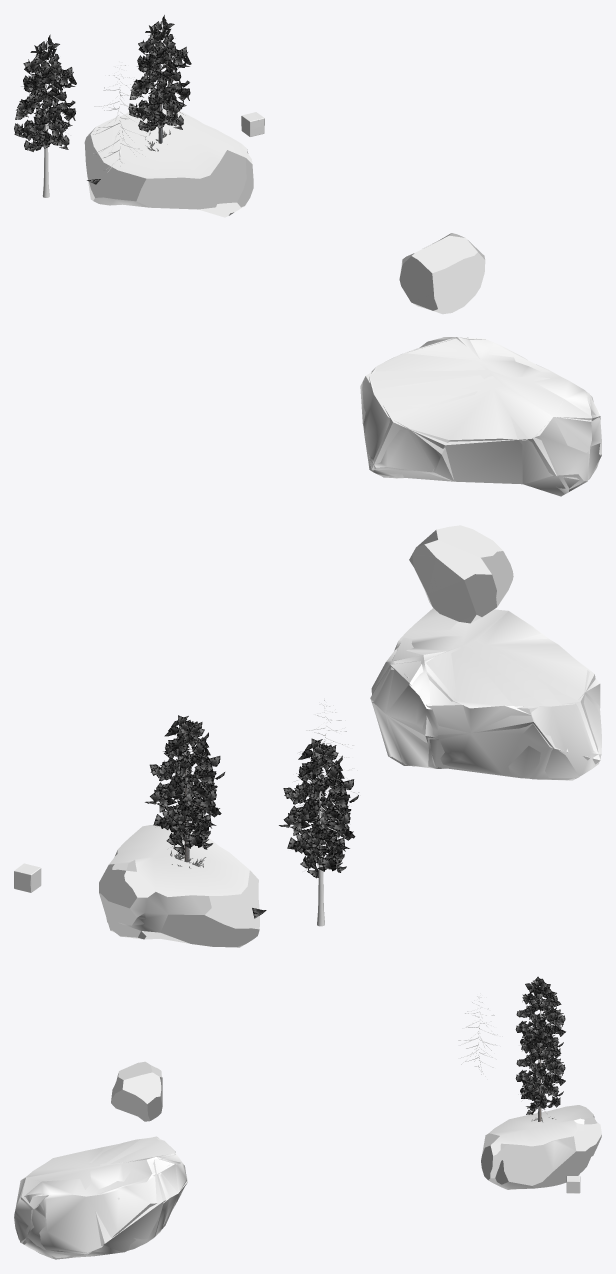
Rendered from source.glb.
3 views of the same model, one above another, from view 1: azimuth 30°, elevation 25°; view 2: azimuth 150°, elevation 25°; view 3: azimuth 270°, elevation 25° (orthographic). The views are drawn at different scales.
Parts seen in each view (by area): view 1: Cube_002, LargeRock, Cube_003, SmallRockSource, Leaves, SourceBranches_001; view 2: Cube_002, LargeRock, Cube_003, SmallRockSource, Leaves, Cube; view 3: Cube_002, LargeRock, Cube_003, Leaves, SmallRockSource, SourceBranches_001.
Boxes of the visible parts, x1,y1,x2,y2 form: Cube_002: (362,337,601,493); LargeRock: (84,107,253,217); Cube_003: (360,337,601,496); SmallRockSource: (399,233,485,314); Leaves: (128,15,191,131); SourceBranches_001: (92,61,146,172); Cube_002: (371,608,601,780); LargeRock: (99,825,259,947); Cube_003: (370,609,600,778); SmallRockSource: (409,525,513,623); Leaves: (145,715,224,854); Cube: (14,863,41,892); Cube_002: (14,1137,186,1258); LargeRock: (481,1105,601,1189); Cube_003: (14,1136,187,1259); Leaves: (515,1025,565,1114); SmallRockSource: (111,1061,162,1121); SourceBranches_001: (458,994,499,1076).
Size of the model in its own units: 6.88 by 6.72 by 17.36.
14 materials, 4 textured.
